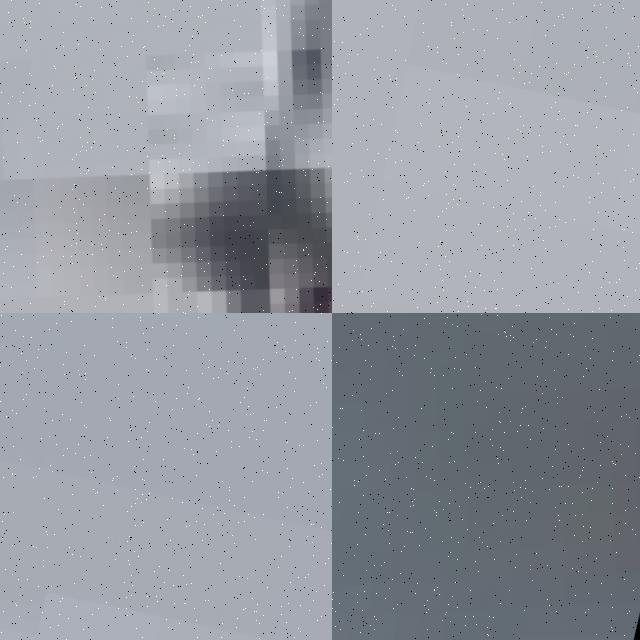0: (0, 0, 332, 313)
drone: (332, 313, 640, 640)
